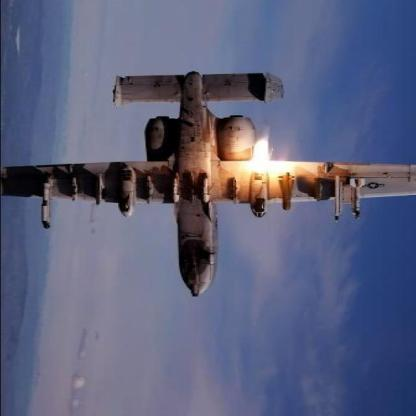MIL_TBM: (334, 176, 339, 224)
